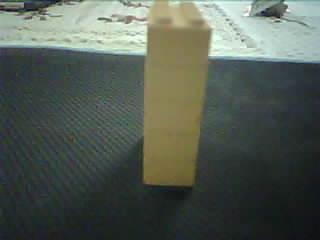lego: (140, 1, 213, 187)
